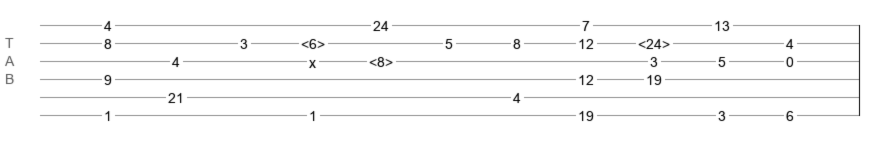0: (786, 54, 794, 64)
1: (104, 108, 112, 118), (309, 108, 317, 118)
12: (578, 72, 594, 82), (578, 36, 594, 46)
13: (714, 18, 730, 28)
19: (578, 108, 594, 118), (646, 72, 662, 82)
21: (168, 90, 184, 100)
24: (373, 18, 389, 28)
3: (240, 36, 248, 46), (650, 54, 658, 64), (718, 108, 726, 118)
4: (104, 18, 112, 28), (172, 54, 180, 64), (513, 90, 521, 100), (786, 36, 794, 46)
5: (445, 36, 453, 46), (718, 54, 726, 64)
6: (786, 108, 794, 118)
7: (582, 18, 590, 28)
8: (104, 36, 112, 46), (513, 36, 521, 46)
9: (104, 72, 112, 82)
harmonic: (638, 36, 670, 46), (301, 36, 325, 46), (369, 54, 393, 64)
x: (309, 55, 316, 63)
